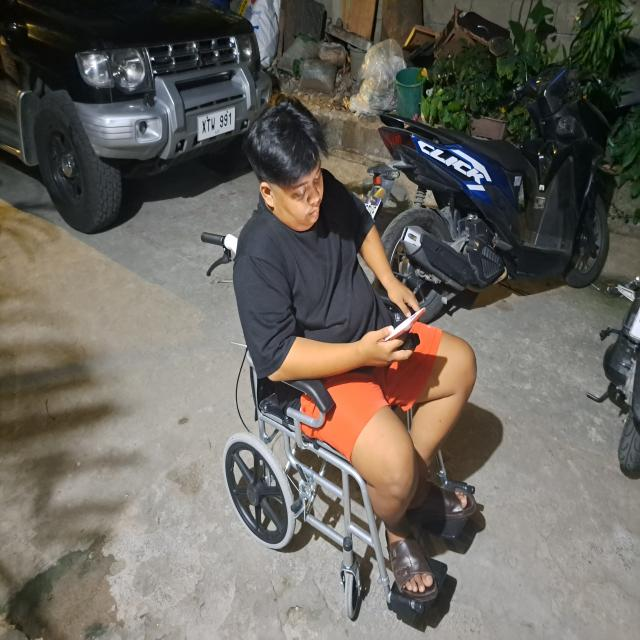wheelchairs: (194, 232, 481, 630)
